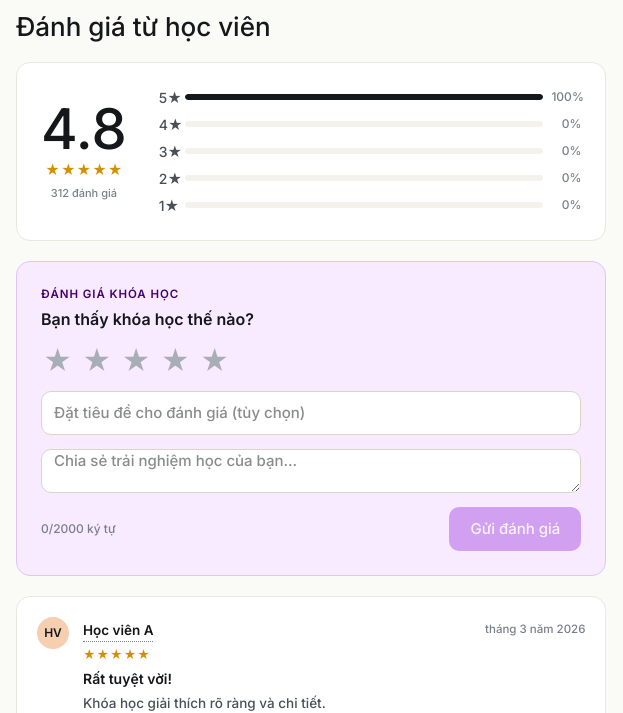
Test: CourseDetailPage › write review block › shows thank-you state after successful submission
(page scrolled)
Expected: the element with test id "write-review-block" is shown, [16,260,606,576]
Click the button with test id "star-input-5" at coordinates (215, 361), box [198,345,231,377]
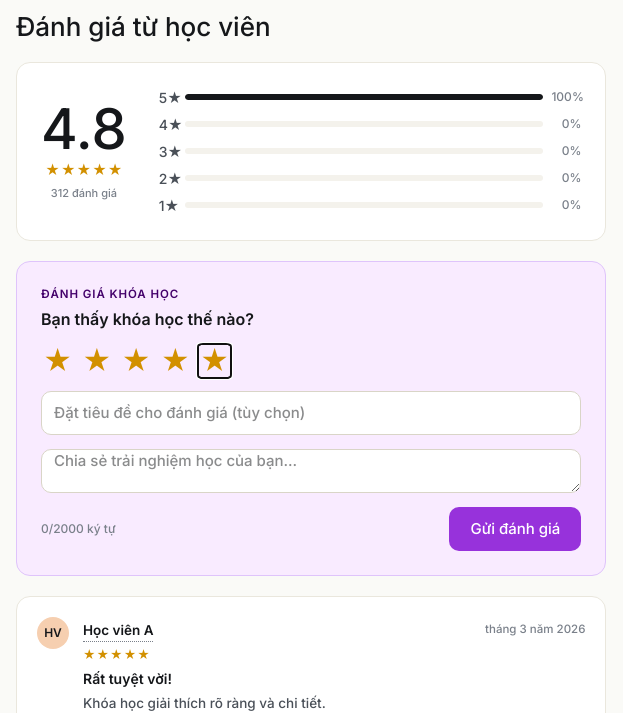
Click the button with test id "submit-review-btn" at coordinates (515, 529), box [450,507,581,551]
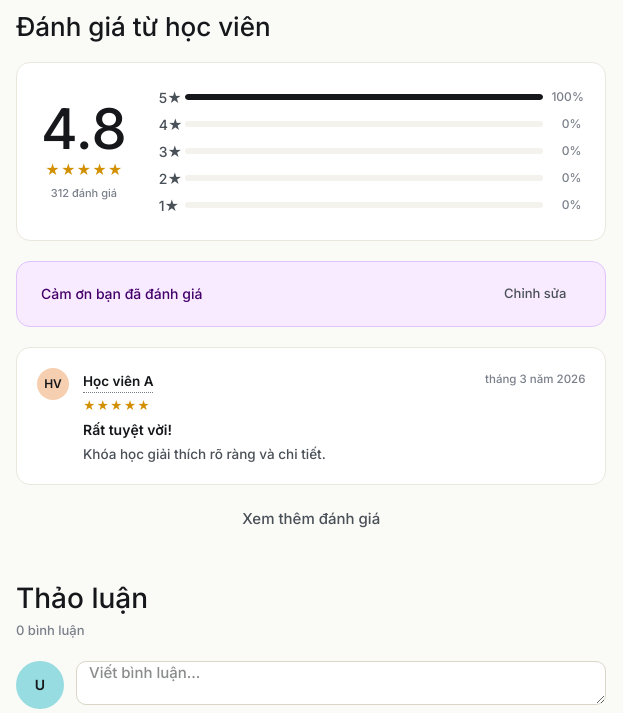
Expected: the element with test id "review-submitted-thanks" is shown, [16,260,606,326]
